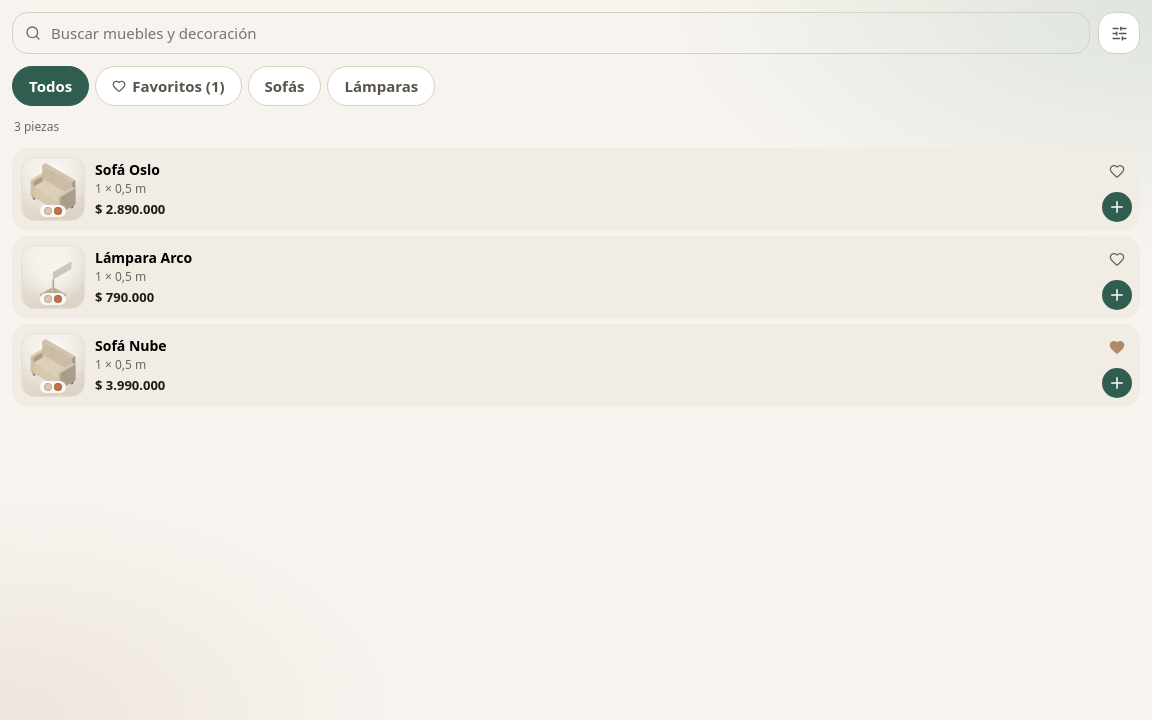
catalog panel › sorts by price and filters by room and price
The width and height of the screenshot is (1152, 720).
Later steps or results of the test are not shown.
Click the button named "Ordenar y filtrar": (1119, 33) [1098, 12, 1140, 54]
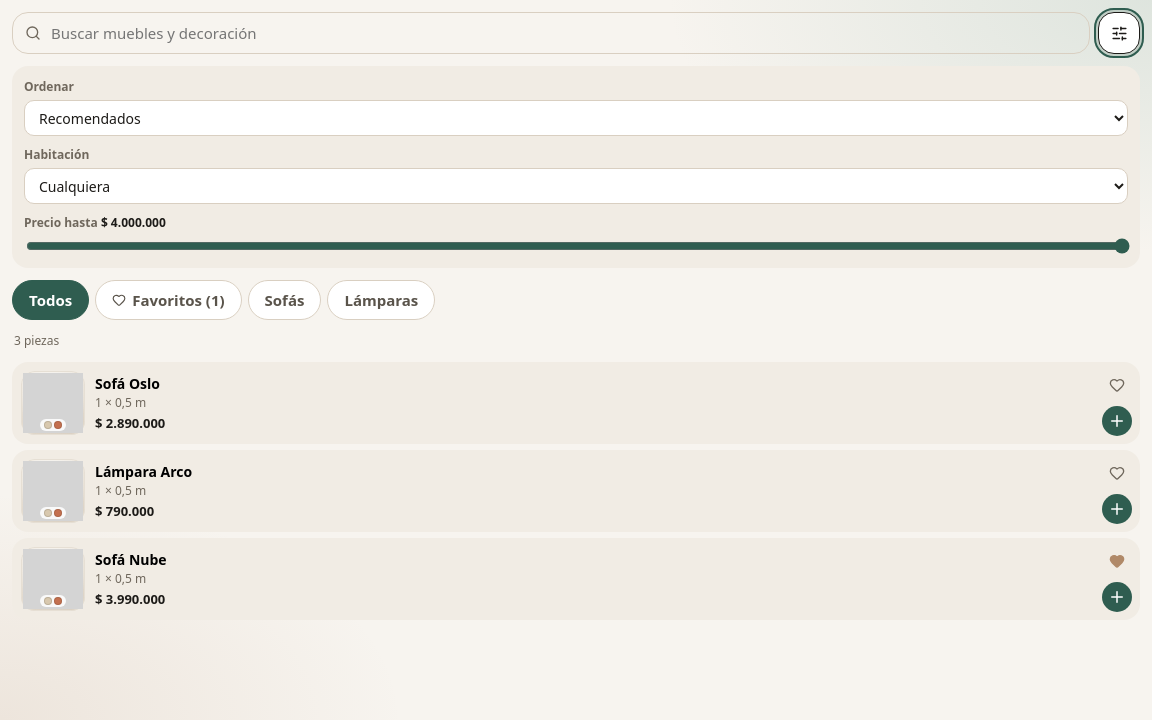
Select "Menor precio" in the dropdown labelled "Ordenar": (576, 118) [24, 100, 1128, 136]
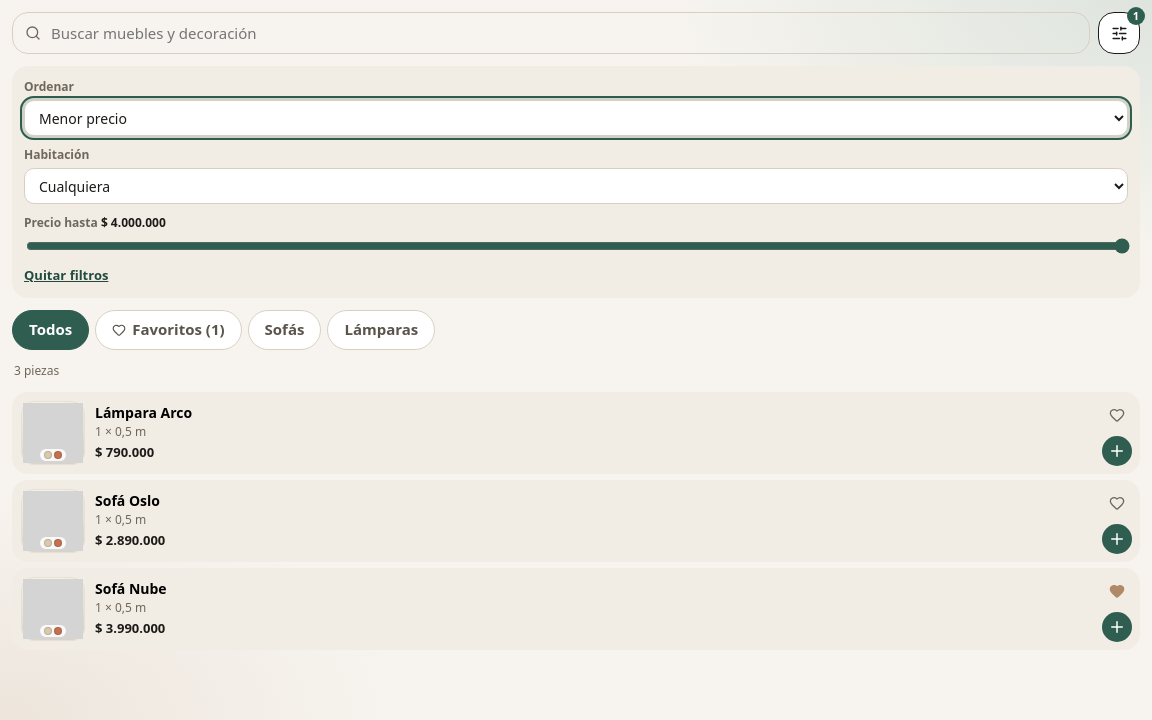
Select "Dormitorio" in the dropdown labelled "Habitación": (576, 186) [24, 168, 1128, 204]
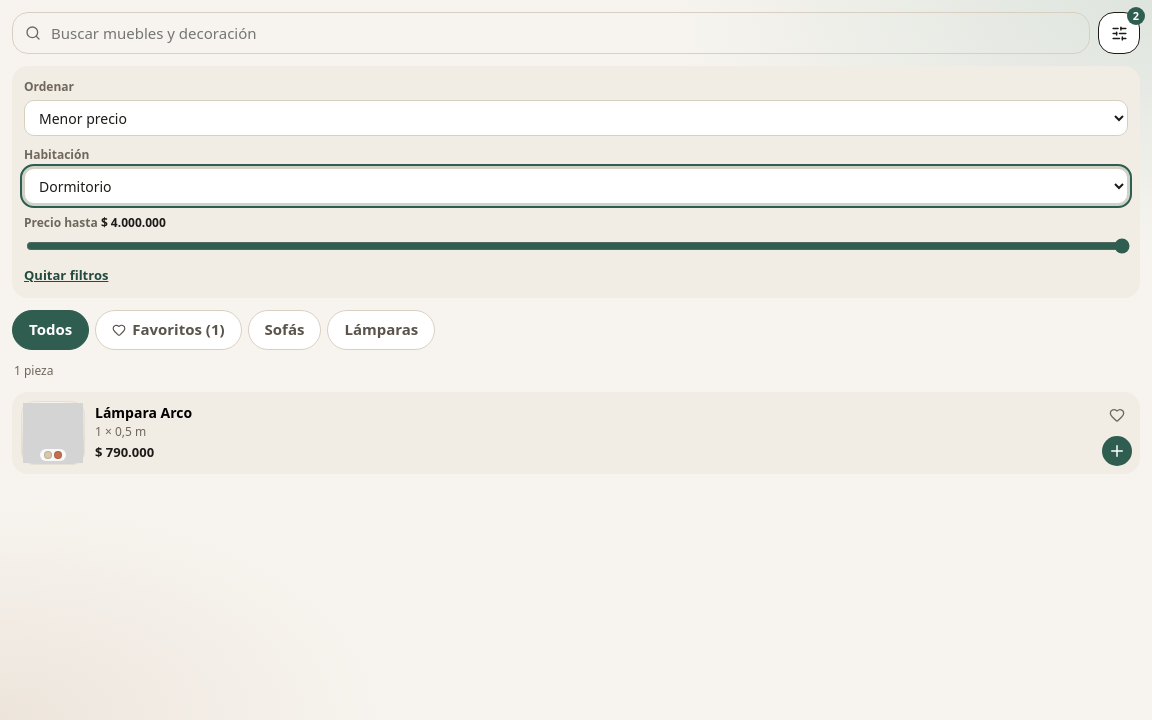
Expected: the text "1 pieza" is shown, [14, 362, 54, 378]
